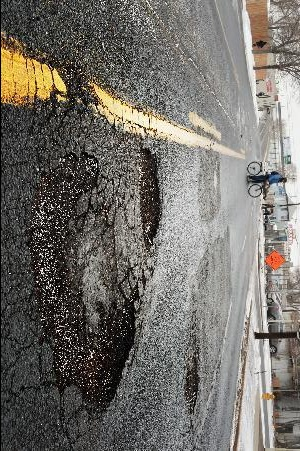pothole: (27, 147, 143, 416), (138, 142, 164, 251), (182, 340, 201, 414)
